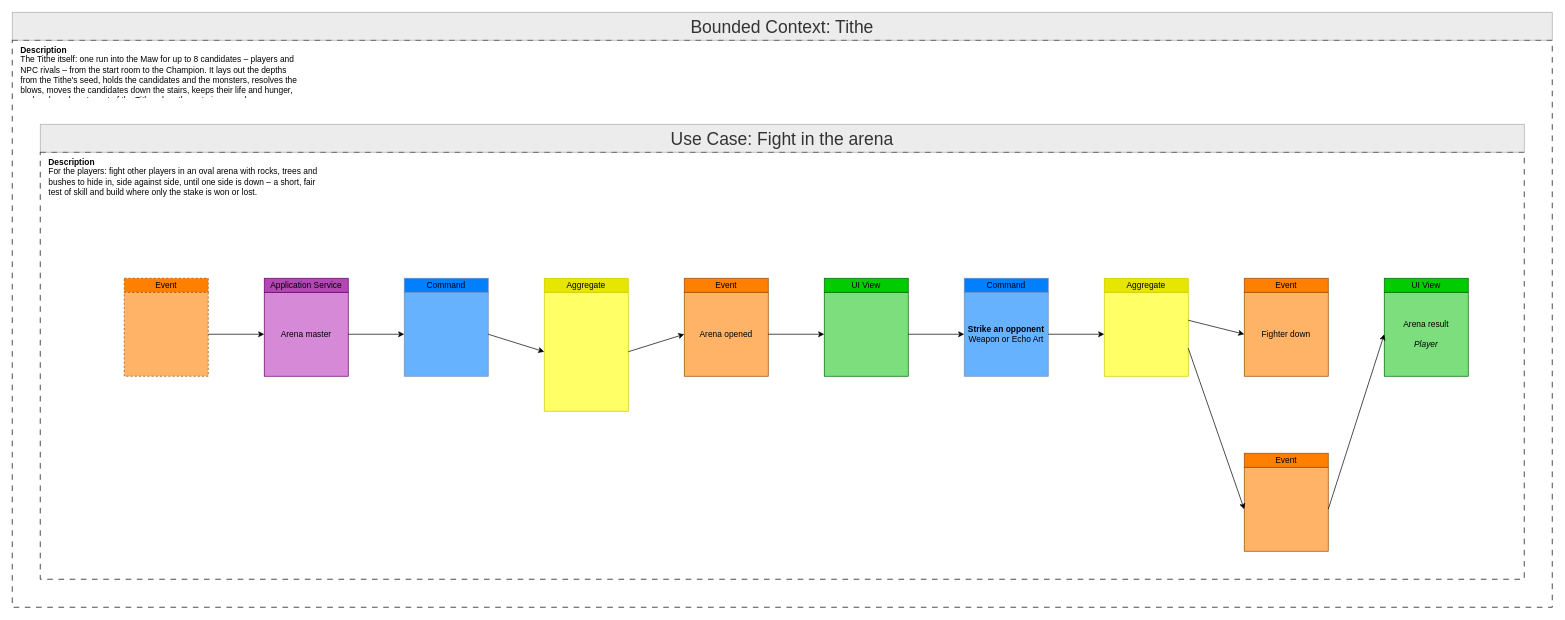
Image size: 1565x620. Some labels were removed from this diagram. Each missing label, with the centre of its shape:
Arena Fighters (many) · Life · Down: the point at 1146,334
Arena Layout Fighters (many) · Name · Side · Life · Down Ring Clock: the point at 586,351
Arena match ended: the point at 1286,509
Arena match started (Online Play / Lobby): the point at 166,334
Arena Player: the point at 866,334
Open the arena Fighters (many) · Player · Character · Side Stake: the point at 446,334
